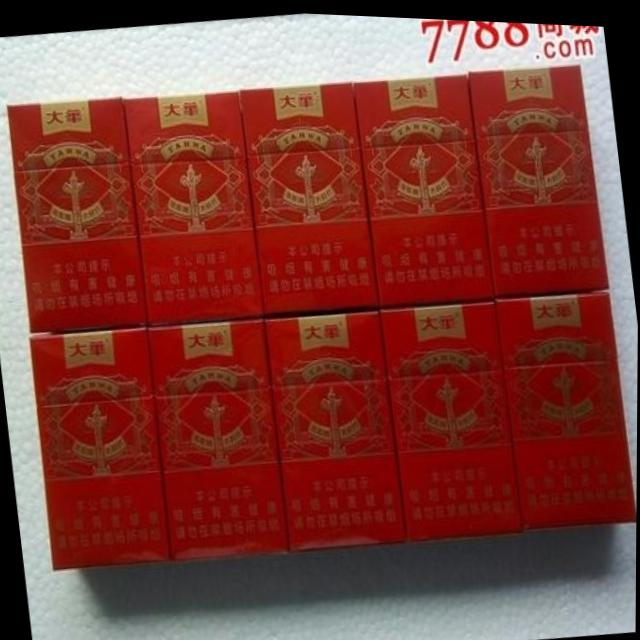box: (379, 295, 524, 538), (147, 314, 290, 560), (264, 305, 407, 550), (495, 285, 637, 526), (351, 69, 496, 304), (29, 326, 169, 569), (7, 98, 148, 333), (467, 59, 609, 292), (123, 89, 264, 322), (239, 78, 379, 312)
